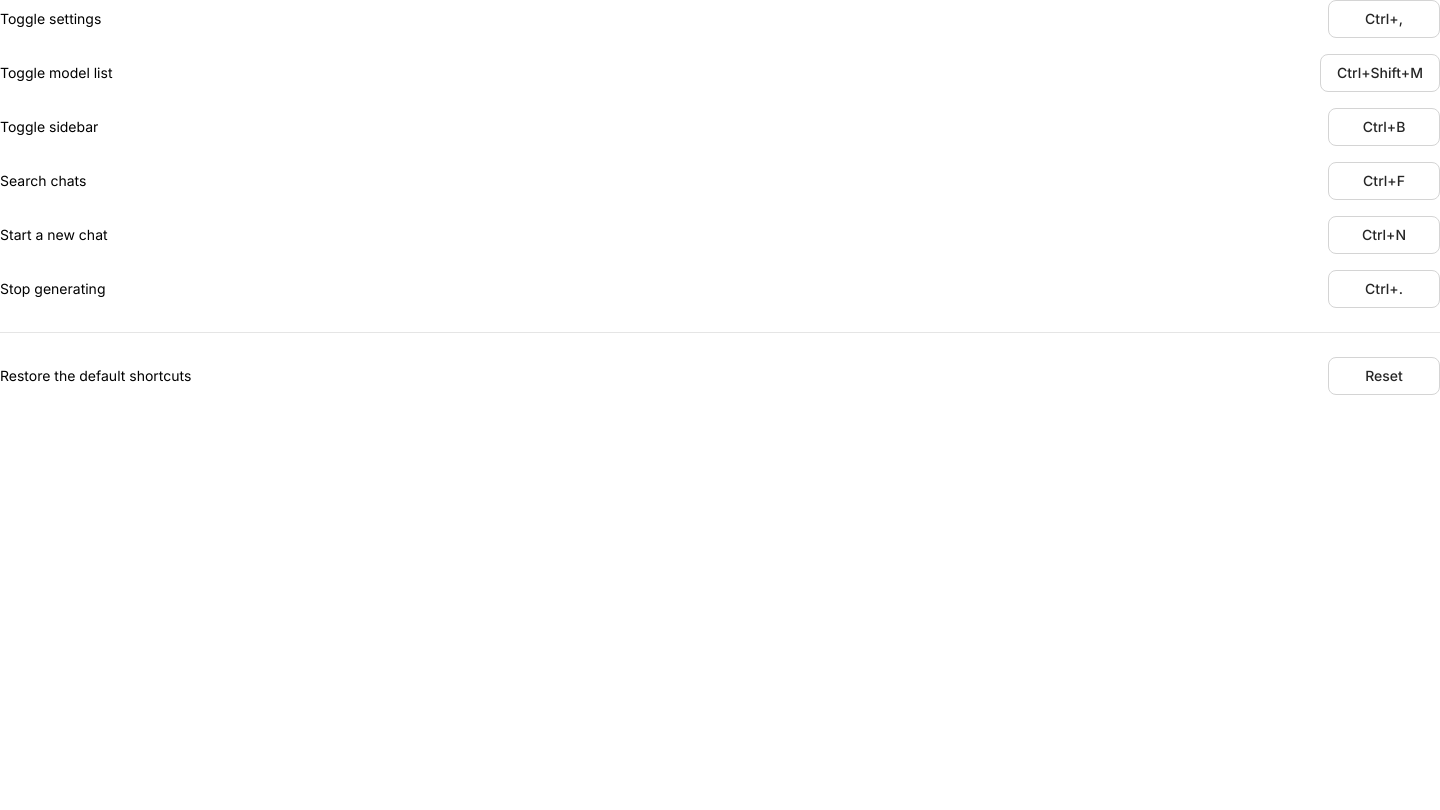
Test: ShortcutsSettings › leaves the shortcuts alone when the reset is cancelled
Click the button "Reset".
click(1384, 376)  # box x1=1328 y1=357 x2=1439 y2=395
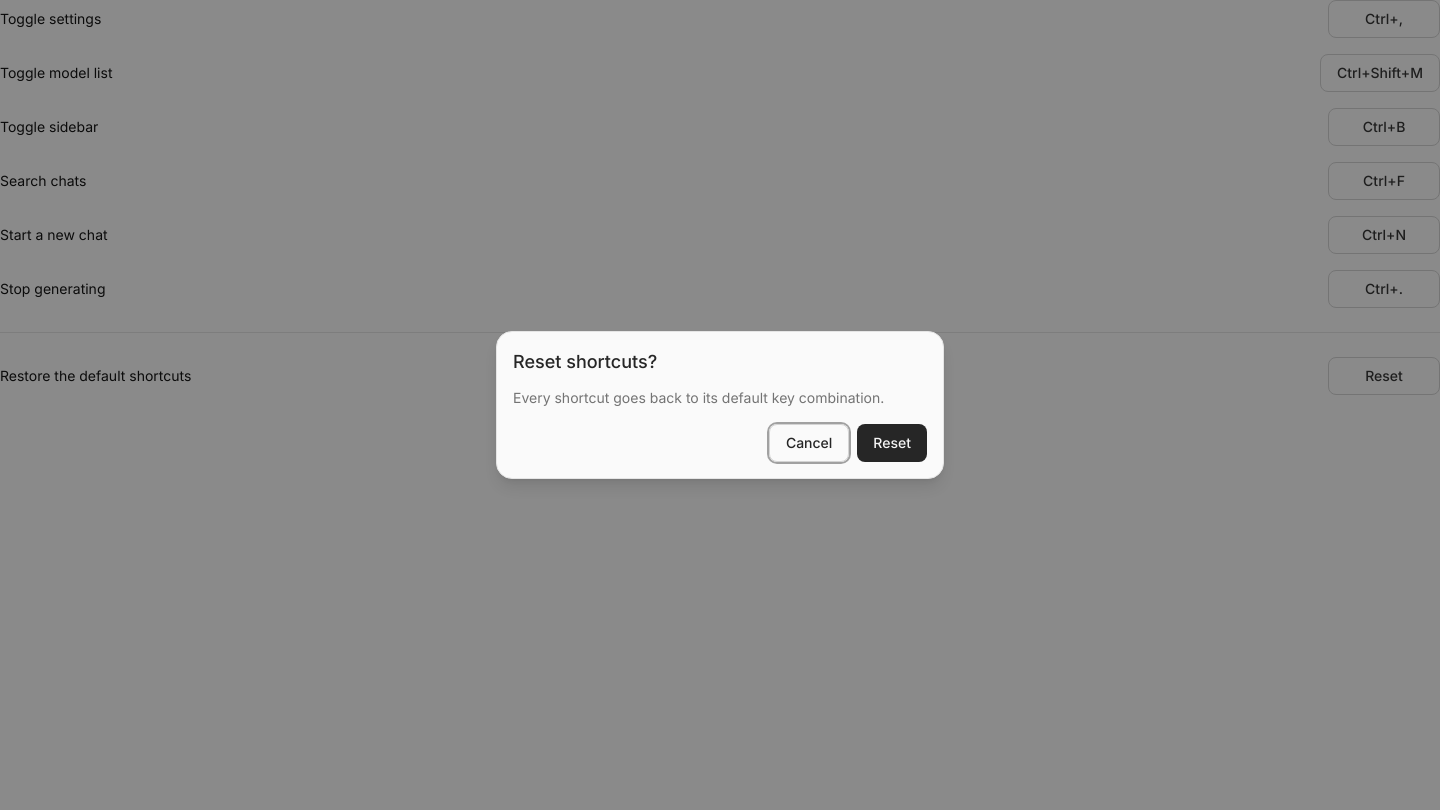
Click the button "Cancel".
click(809, 443)  # box x1=769 y1=424 x2=849 y2=462
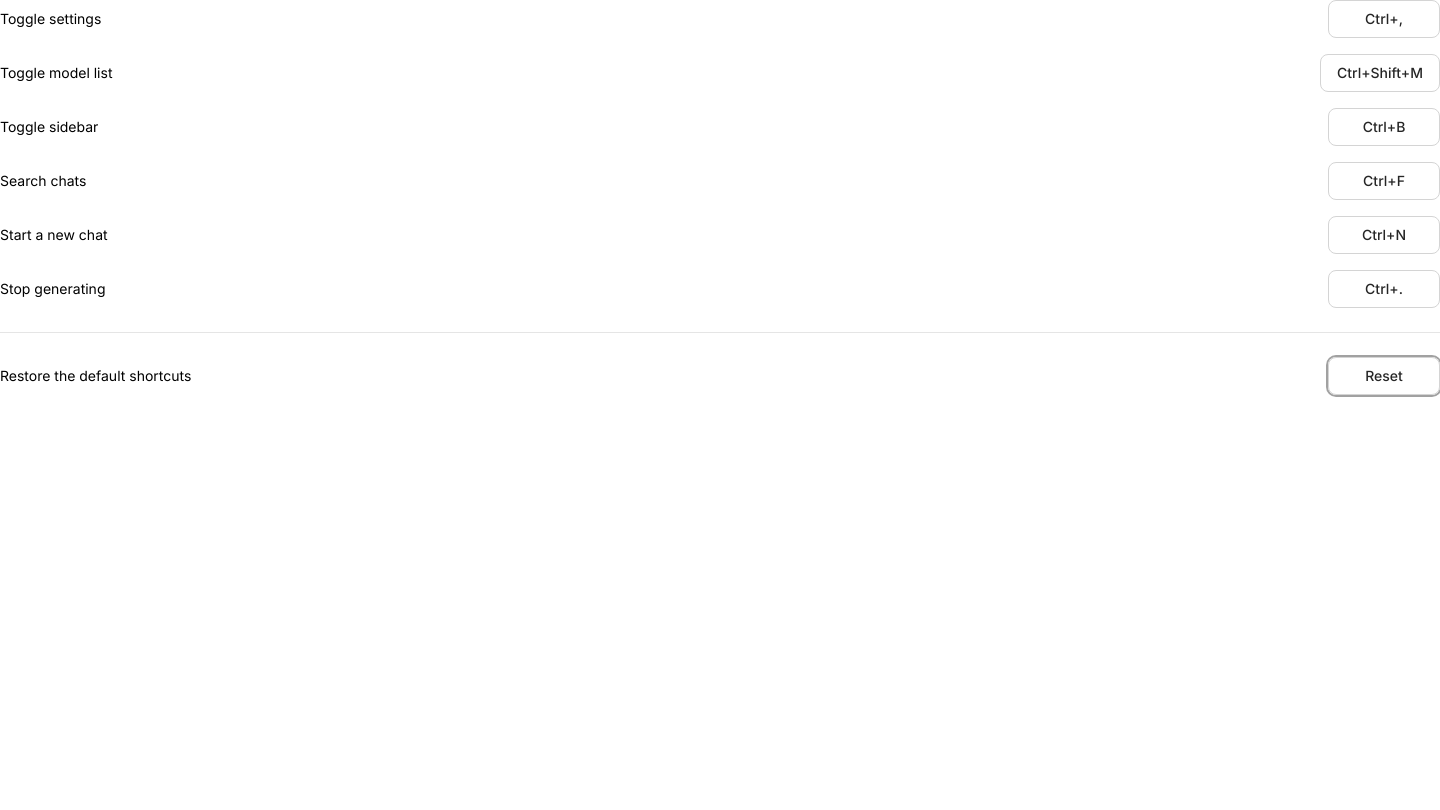
Check: the dialog is gone
